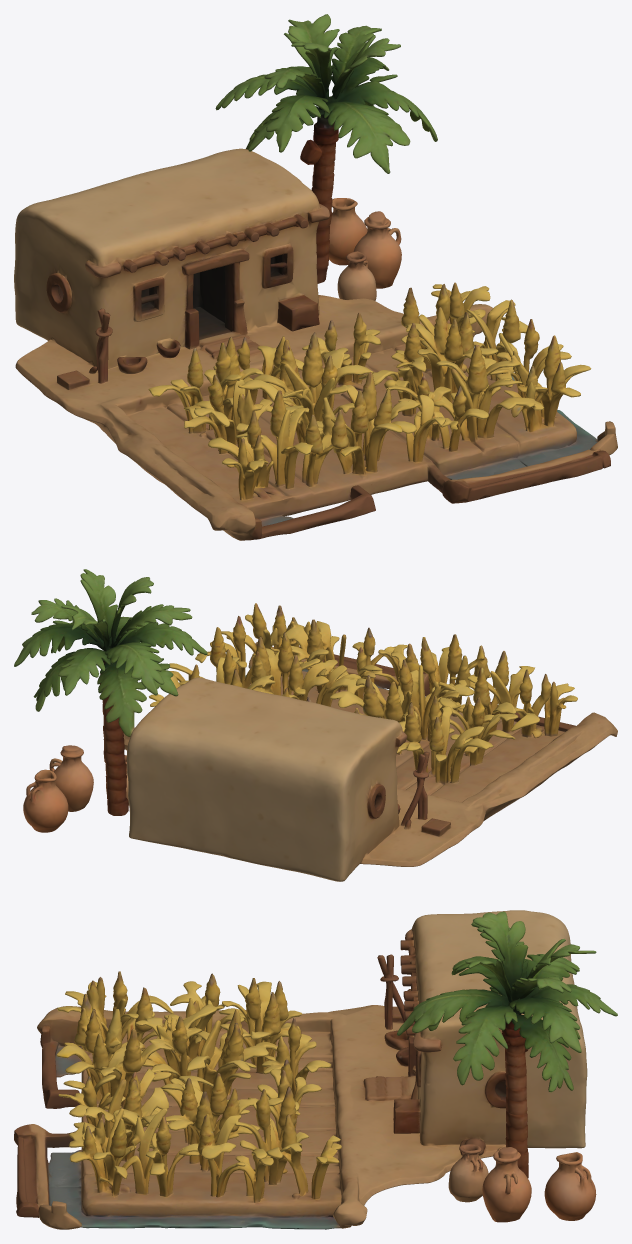
File: المزرعة_السومرية.glb
3 views of the same model, one above another, from view 1: azimuth 30°, elevation 25°; view 2: azimuth 150°, elevation 25°; view 3: azimuth 270°, elevation 25° (orthographic). The views are drawn at different scales.
Parts seen in each view (by area): view 1: tripo_node_94f6d61c-c8ff-4651-99df-ee390aeda8ef; view 2: tripo_node_94f6d61c-c8ff-4651-99df-ee390aeda8ef; view 3: tripo_node_94f6d61c-c8ff-4651-99df-ee390aeda8ef.
Boxes of the visible parts, x1=… form: tripo_node_94f6d61c-c8ff-4651-99df-ee390aeda8ef: x1=14, y1=14, x2=617, y2=540; tripo_node_94f6d61c-c8ff-4651-99df-ee390aeda8ef: x1=14, y1=569, x2=617, y2=881; tripo_node_94f6d61c-c8ff-4651-99df-ee390aeda8ef: x1=14, y1=910, x2=617, y2=1229.
Size of the model in its own units: 0.9874 by 0.6 by 1.2.
Materials: 1 (1 with a texture image).
